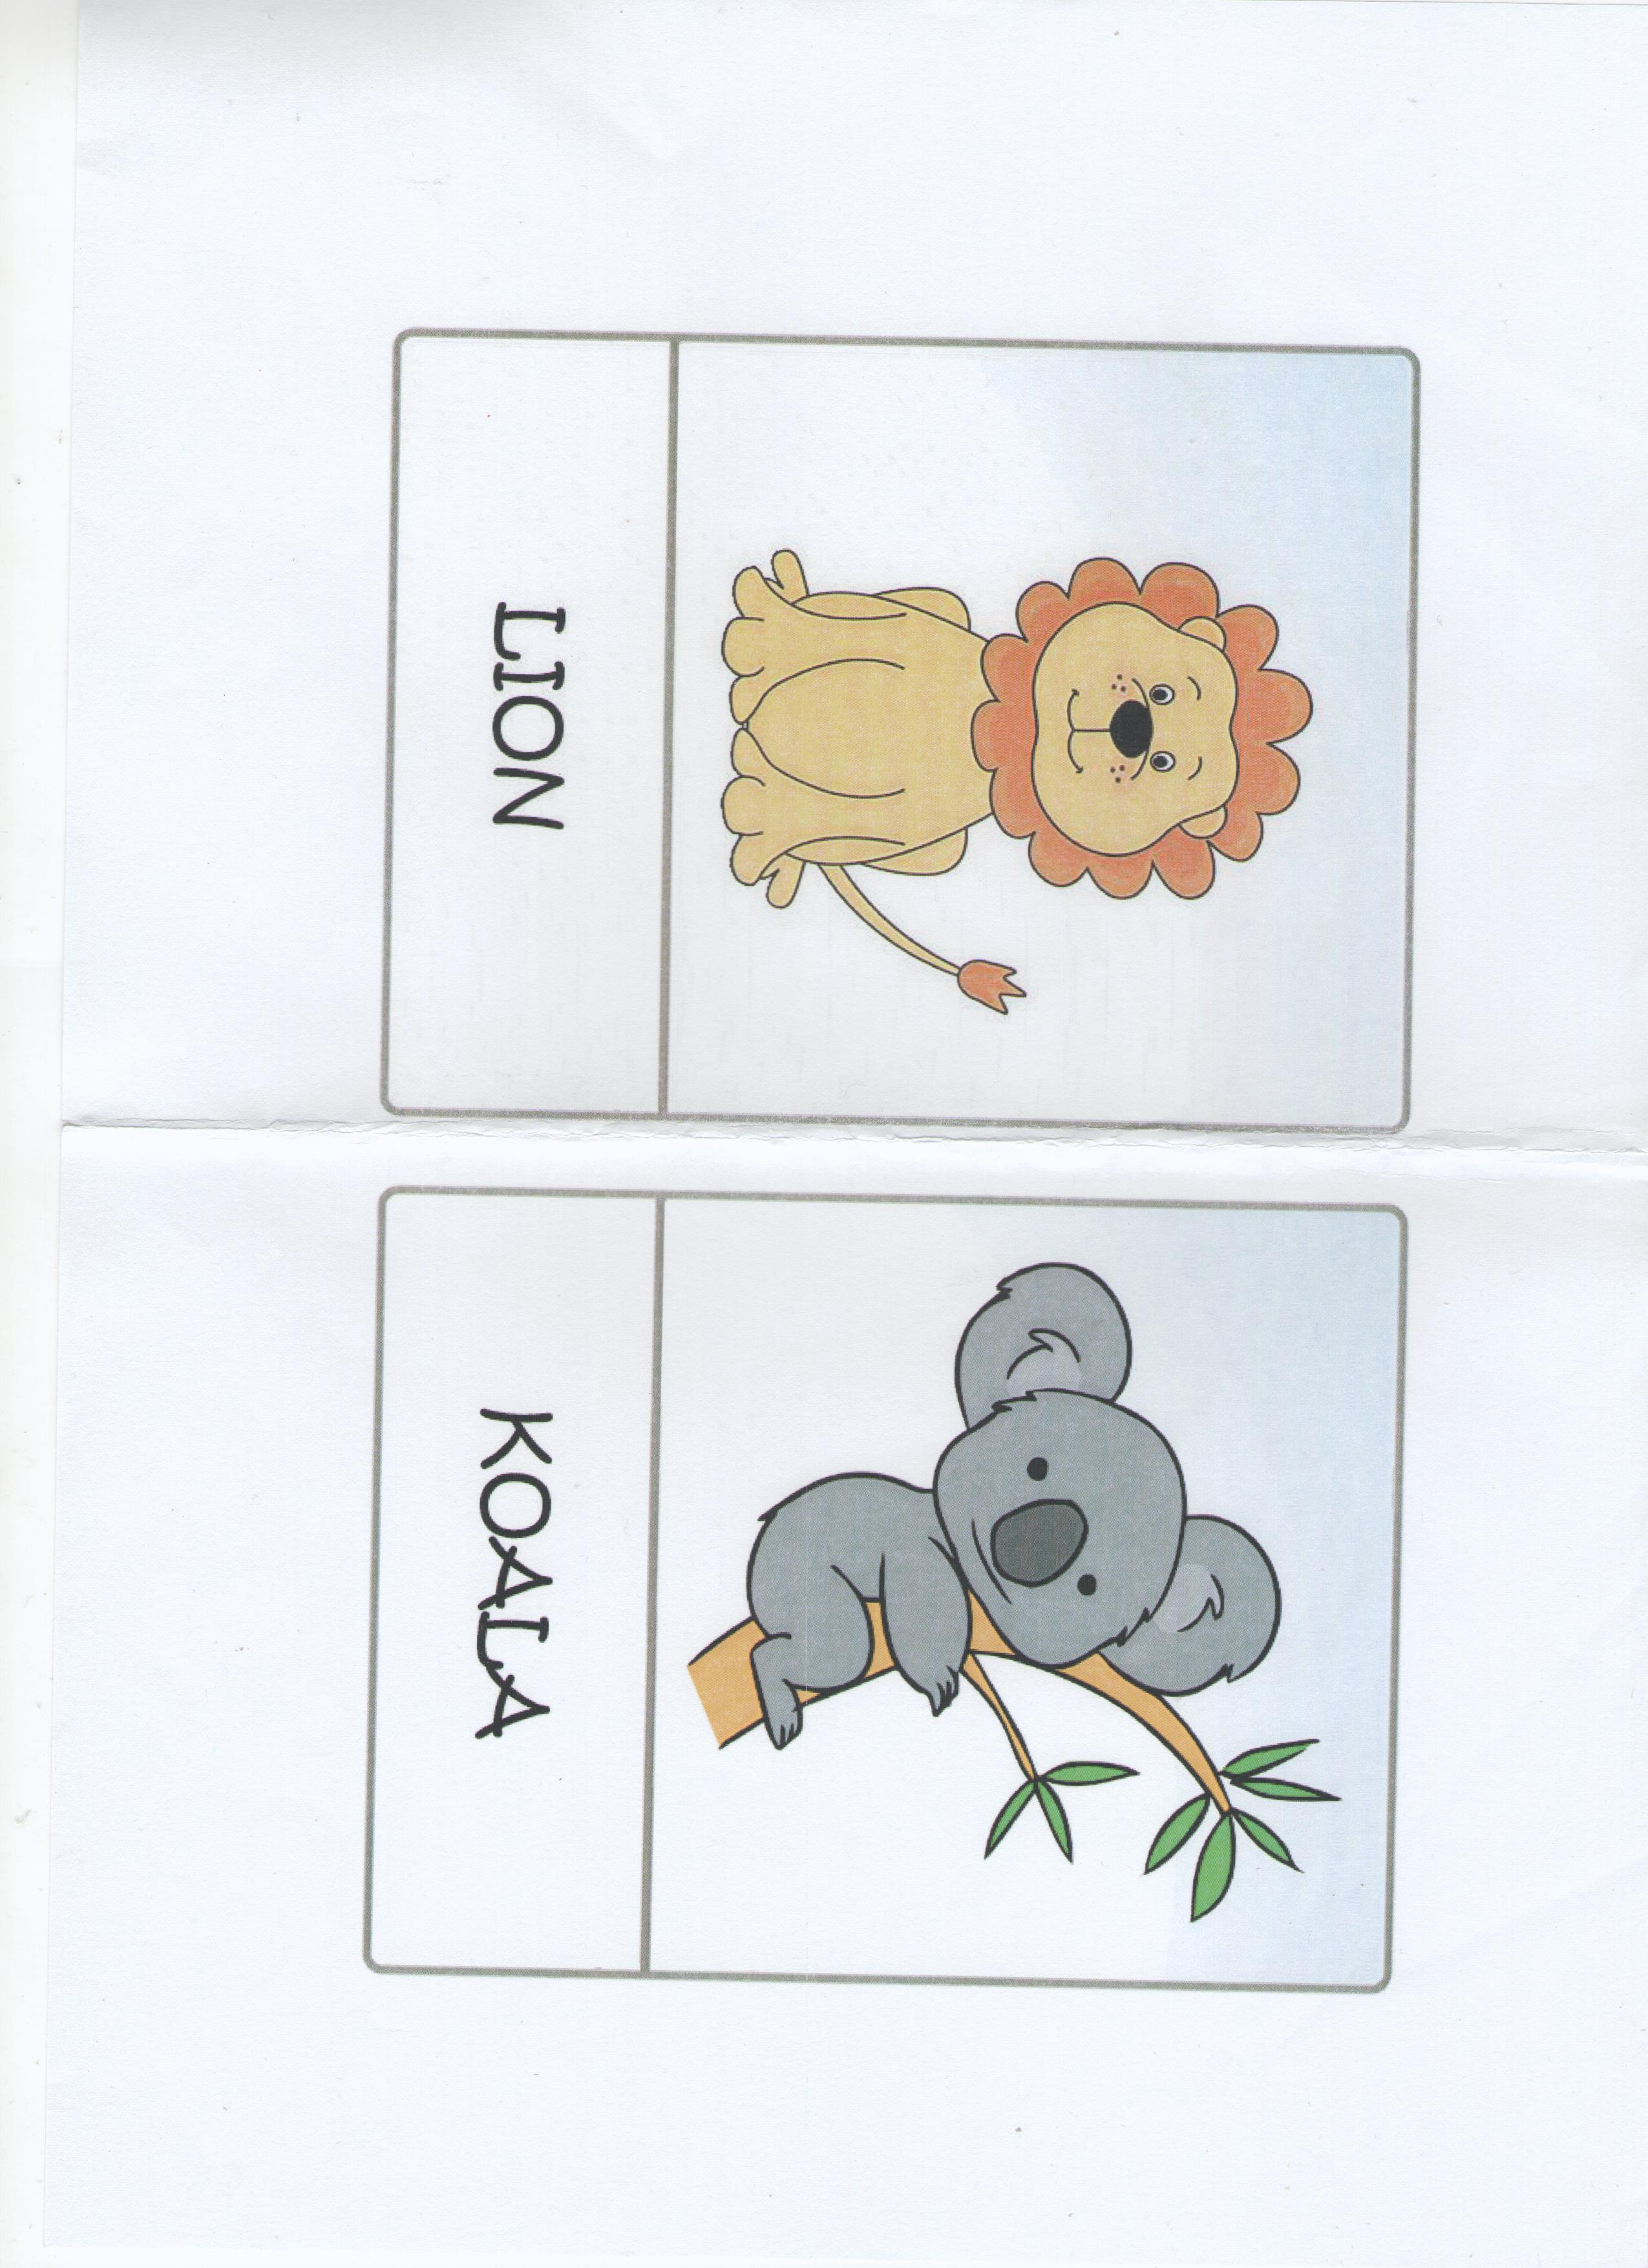koala: (374, 1201, 1384, 1962)
leone: (383, 339, 1375, 1096)
